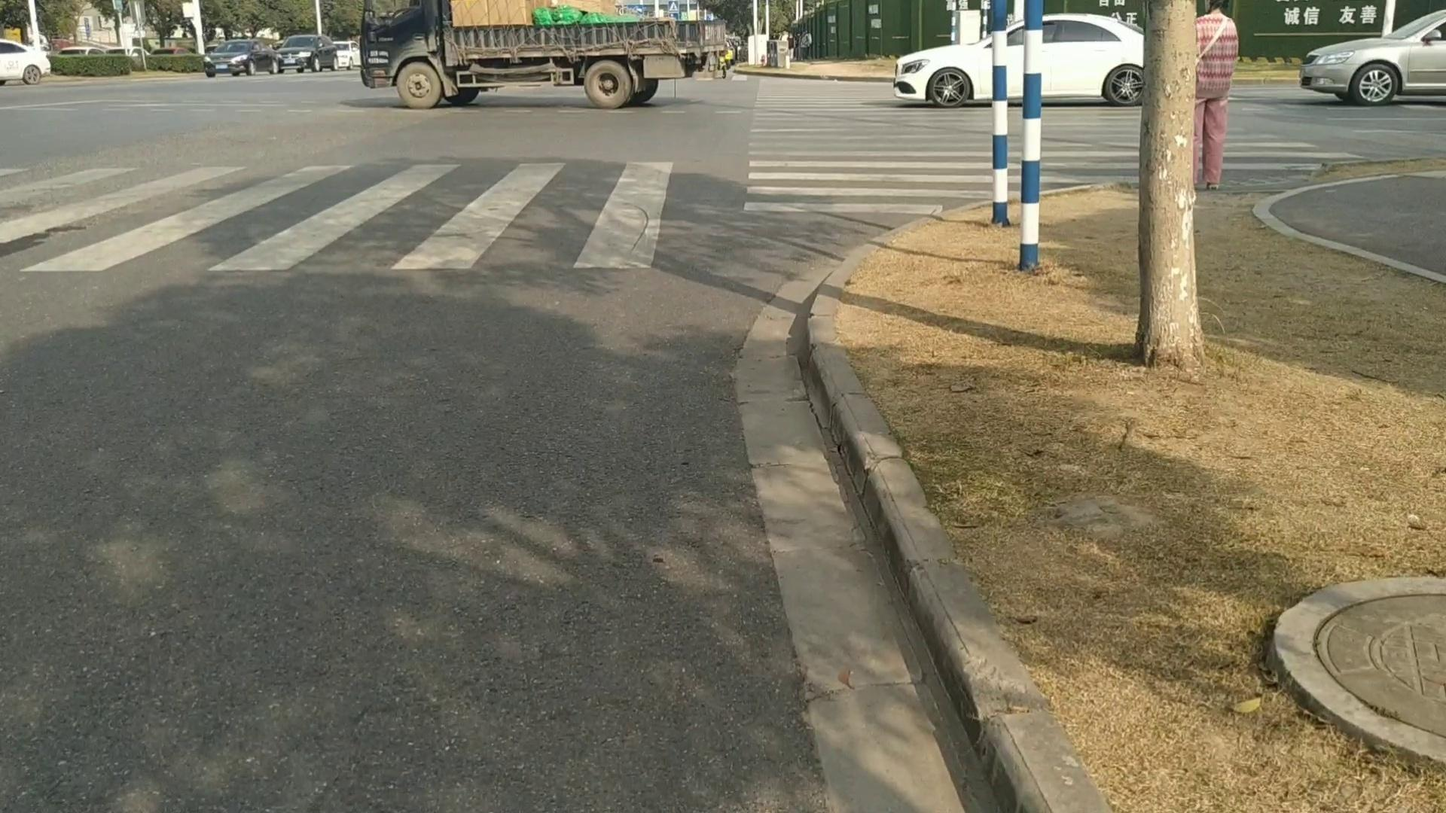car: (891, 14, 1144, 107), (1298, 10, 1445, 105), (274, 32, 343, 74), (204, 38, 270, 76), (0, 38, 52, 84), (334, 41, 360, 70)
